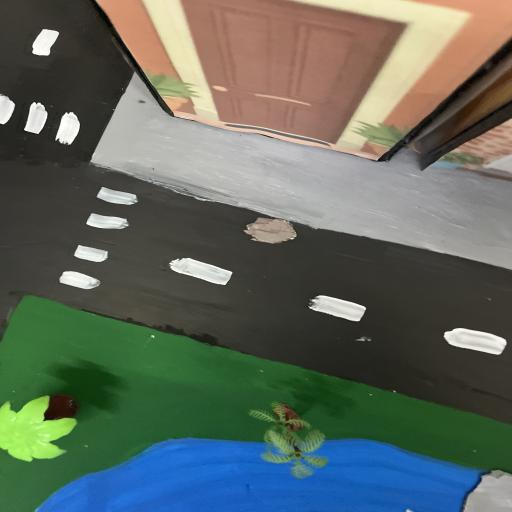encroachment: (462, 466, 512, 512)
porthole: (241, 215, 300, 245)
